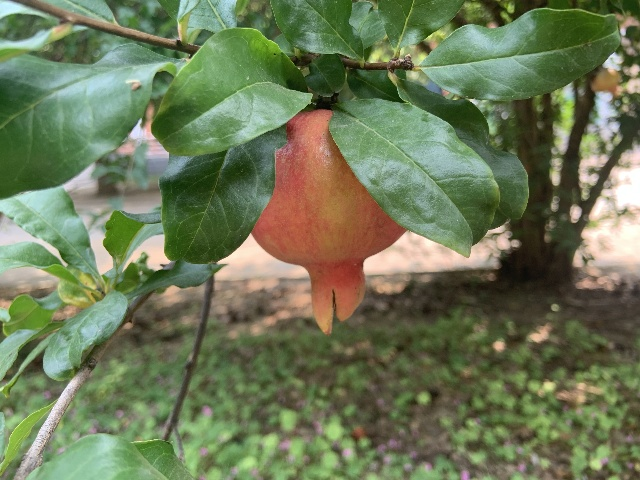early-fruit: (591, 67, 629, 103)
ripe: (251, 109, 406, 334)
